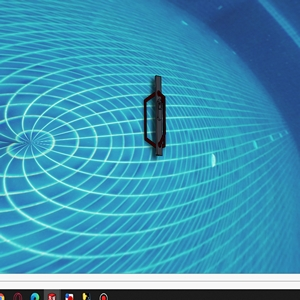submarine: (143, 74, 168, 157)
